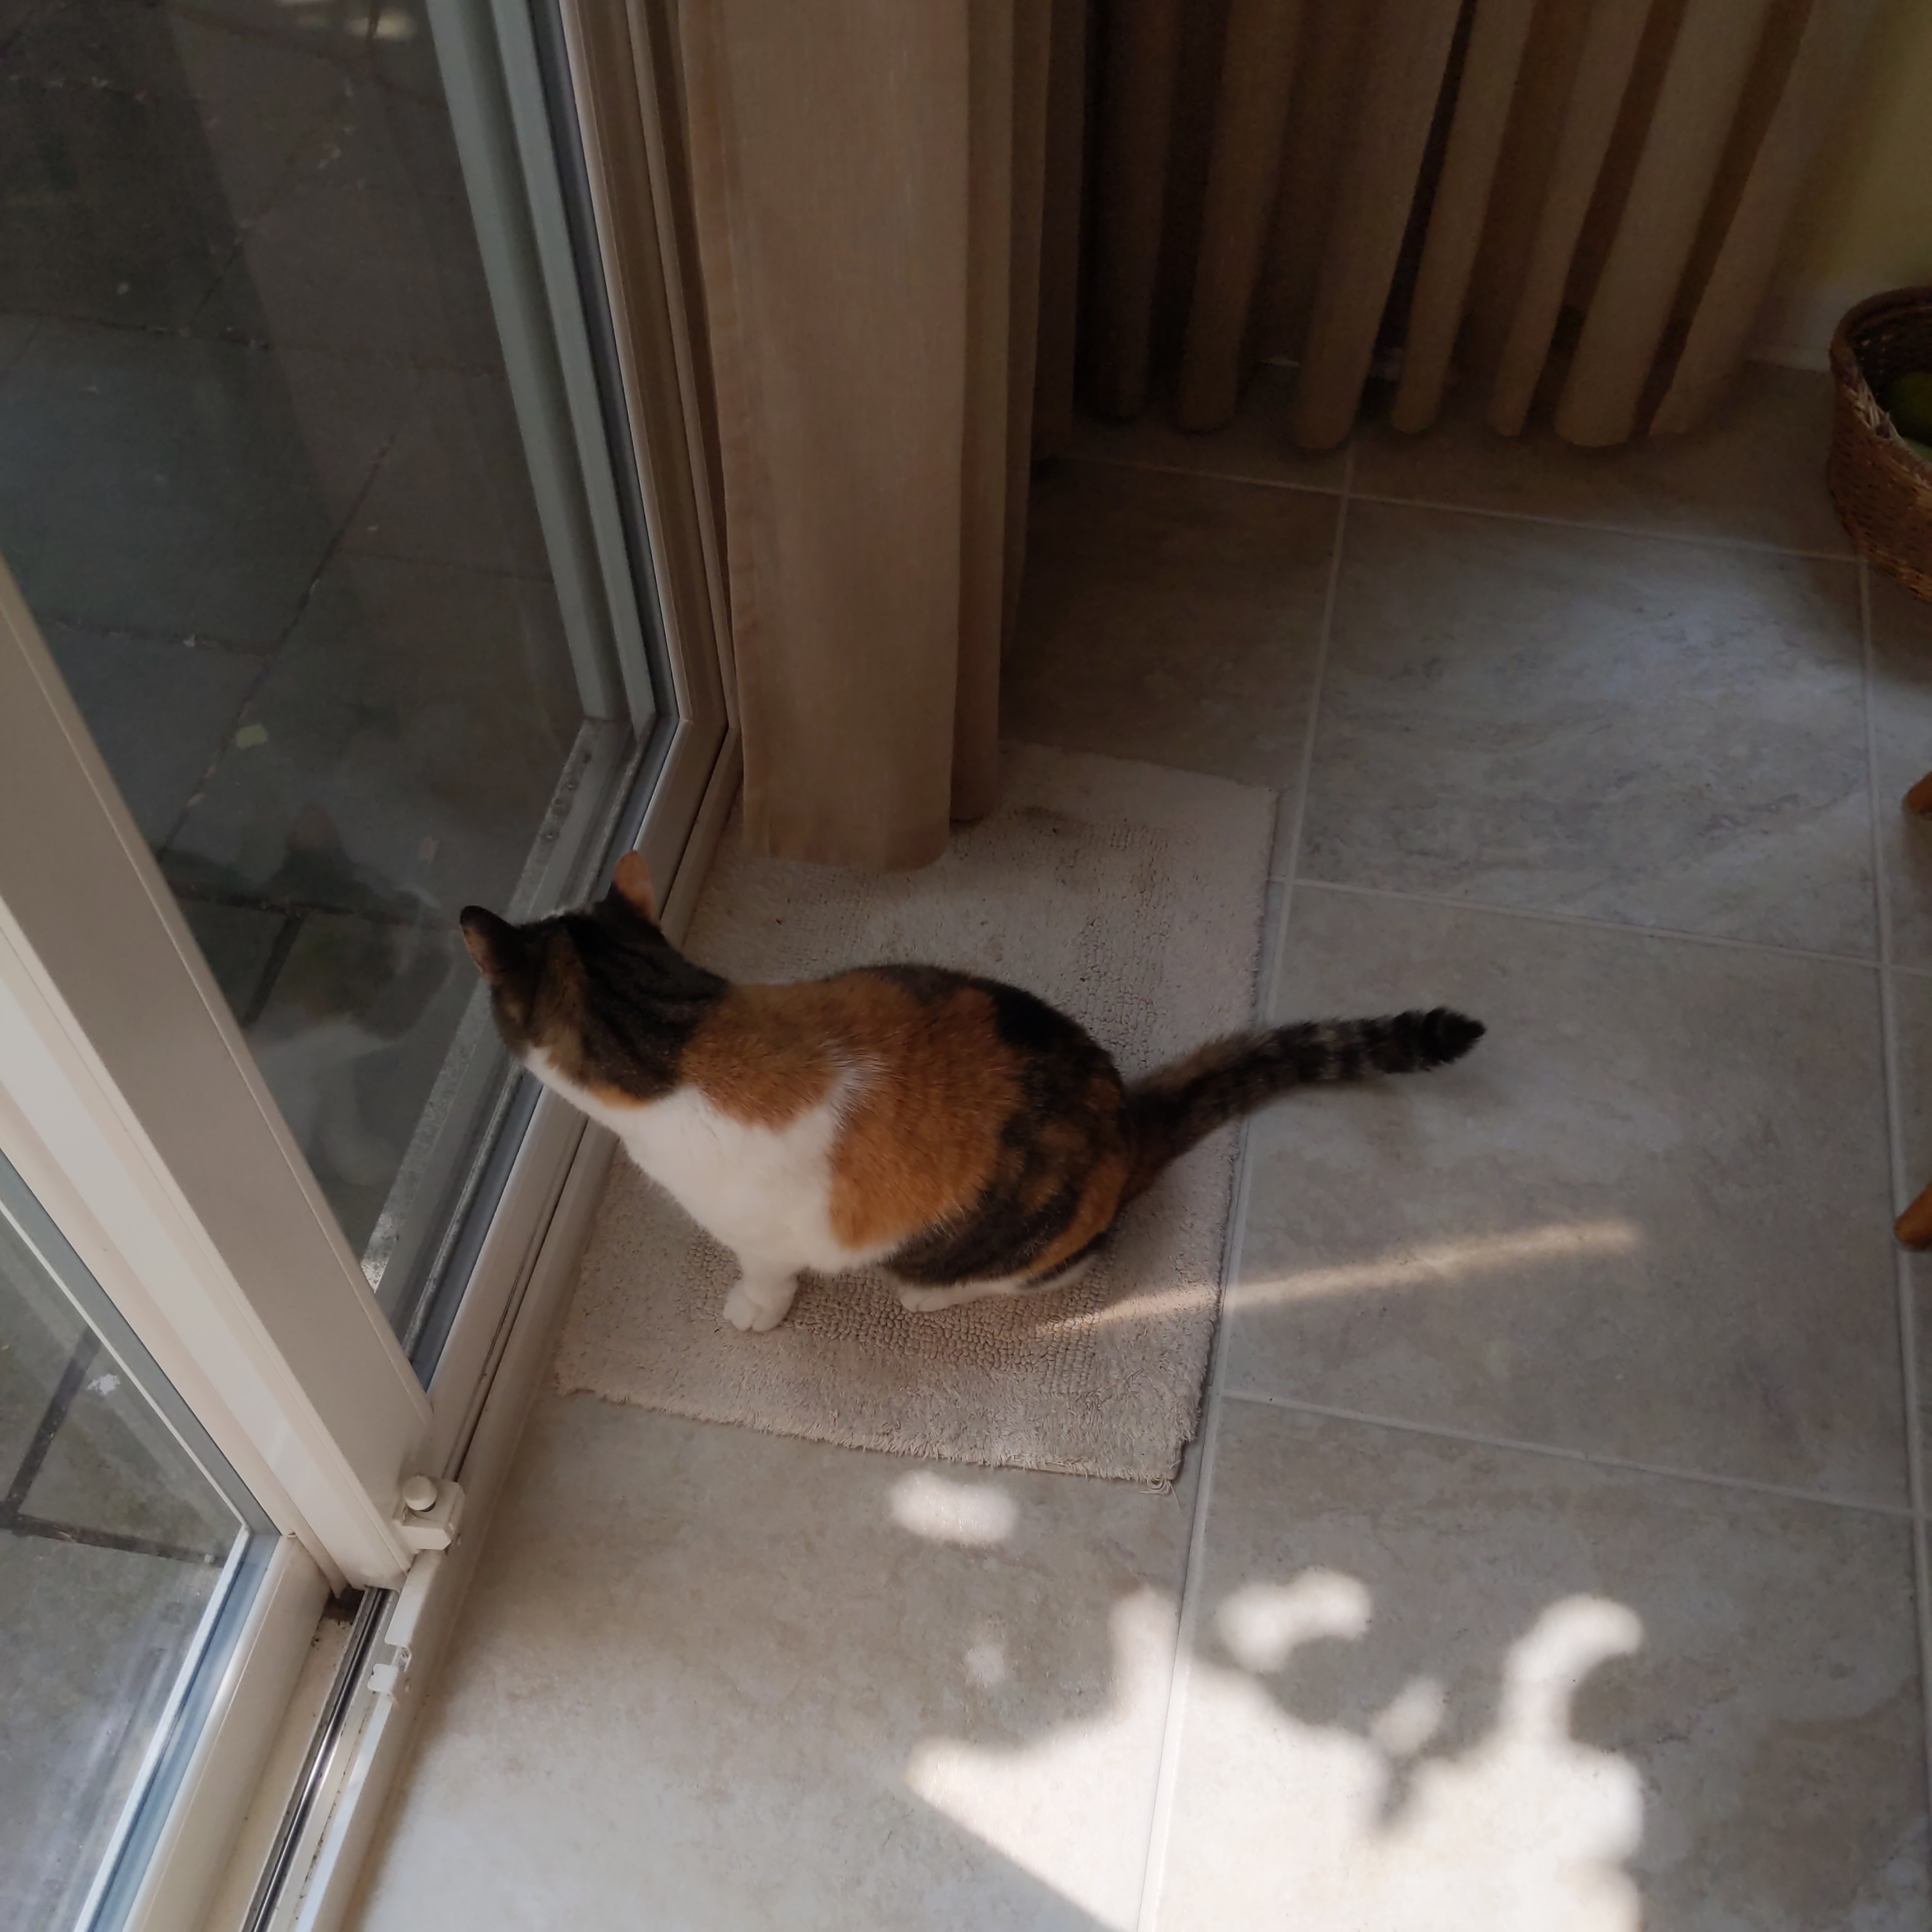Calico: (460, 851, 1488, 1332)
